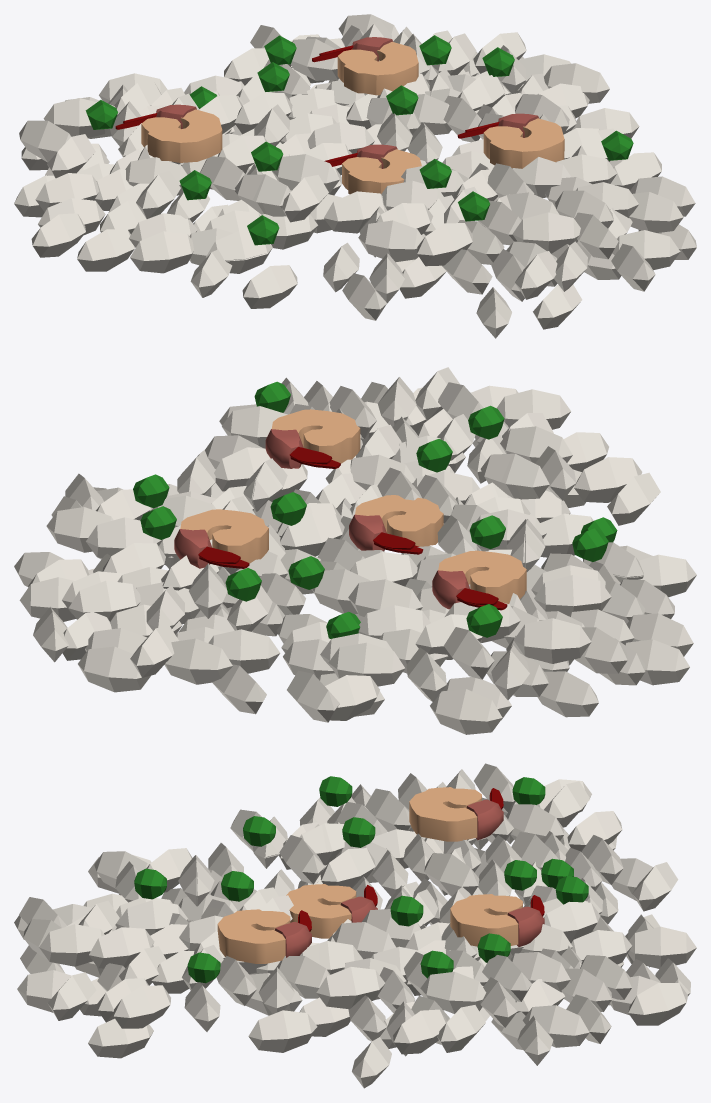
File: paella_mix_lower_poly.fbx
3 renders of one model, top to bottom at view 1: azimuth 30°, elevation 25°; view 2: azimuth 150°, elevation 25°; view 3: azimuth 270°, elevation 25°, orthographic. The views are drawn at different scales.
Parts seen in each view (by area): view 1: prawnmeat (×4), paella_mix_model:rice88 (×2), paella_mix_model:rice75 (×2), paella_mix_model:rice13 (×2), paella_mix_model:rice67 (×2), paella_mix_model:rice6 (×2), paella_mix_model:rice127 (×2), paella_mix_model:rice31 (×2), paella_mix_model:rice33 (×2), paella_mix_model:rice69 (×2), paella_mix_model:rice_pile:rice125, paella_mix_model:rice44 (+88 smaller); view 2: prawnmeat (×4), shell (×3), paella_mix_model:rice6 (×2), paella_mix_model:rice31 (×2), paella_mix_model:rice33 (×2), paella_mix_model:rice75 (×2), paella_mix_model:rice44 (×2), paella_mix_model:rice82 (×2), paella_mix_model:rice88 (×2), paella_mix_model:rice_pile:rice10, paella_mix_model:rice35 (×2), paella_mix_model:rice_pile:rice161 (+91 smaller); view 3: prawnmeat (×4), paella_mix_model:rice53 (×2), paella_mix_model:rice162 (×2), paella_mix_model:rice31 (×2), paella_mix_model:rice6 (×2), paella_mix_model:rice33 (×2), paella_mix_model:rice13 (×2), paella_mix_model:rice75 (×2), paella_mix_model:rice51 (×2), paella_mix_model:rice44 (×2), paella_mix_model:rice35 (×2), paella_mix_model:rice88 (×2) (+77 smaller).
Boxes of the visible parts, x1,y1,x2,y2 form: prawnmeat (×4): (141,41,564,194); paella_mix_model:rice88 (×2): (515,63,609,299); paella_mix_model:rice75 (×2): (417,94,569,266); paella_mix_model:rice13 (×2): (497,45,580,253); paella_mix_model:rice67 (×2): (476,108,639,338); paella_mix_model:rice6 (×2): (431,33,613,228); paella_mix_model:rice127 (×2): (457,75,521,245); paella_mix_model:rice31 (×2): (473,32,618,259); paella_mix_model:rice33 (×2): (291,38,614,161); paella_mix_model:rice69 (×2): (381,122,443,210); paella_mix_model:rice_pile:rice125: (130,231,194,273); paella_mix_model:rice44: (358,220,423,262); prawnmeat (×4): (180,409,526,603); shell (×3): (265,429,469,609); paella_mix_model:rice6 (×2): (86,377,416,558); paella_mix_model:rice31 (×2): (46,367,460,552); paella_mix_model:rice33 (×2): (189,406,287,618); paella_mix_model:rice75 (×2): (177,426,572,494); paella_mix_model:rice44 (×2): (214,446,576,500); paella_mix_model:rice82 (×2): (280,467,421,556); paella_mix_model:rice88 (×2): (65,389,571,510); paella_mix_model:rice_pile:rice10: (513,618,591,663); paella_mix_model:rice35 (×2): (102,386,376,573); paella_mix_model:rice_pile:rice161: (430,689,502,734); prawnmeat (×4): (217,787,522,963); paella_mix_model:rice53 (×2): (113,955,632,1028); paella_mix_model:rice162 (×2): (47,972,589,1047); paella_mix_model:rice31 (×2): (39,924,517,1027); paella_mix_model:rice6 (×2): (89,927,531,1001); paella_mix_model:rice33 (×2): (216,901,600,1005); paella_mix_model:rice13 (×2): (78,900,486,1013); paella_mix_model:rice75 (×2): (115,861,385,1009); paella_mix_model:rice51 (×2): (184,930,631,1031); paella_mix_model:rice44 (×2): (146,848,330,998); paella_mix_model:rice35 (×2): (119,946,570,992); paella_mix_model:rice88 (×2): (19,897,446,1054).
Bounding box in the file's own units: 66 × 11.01 × 66.07.
